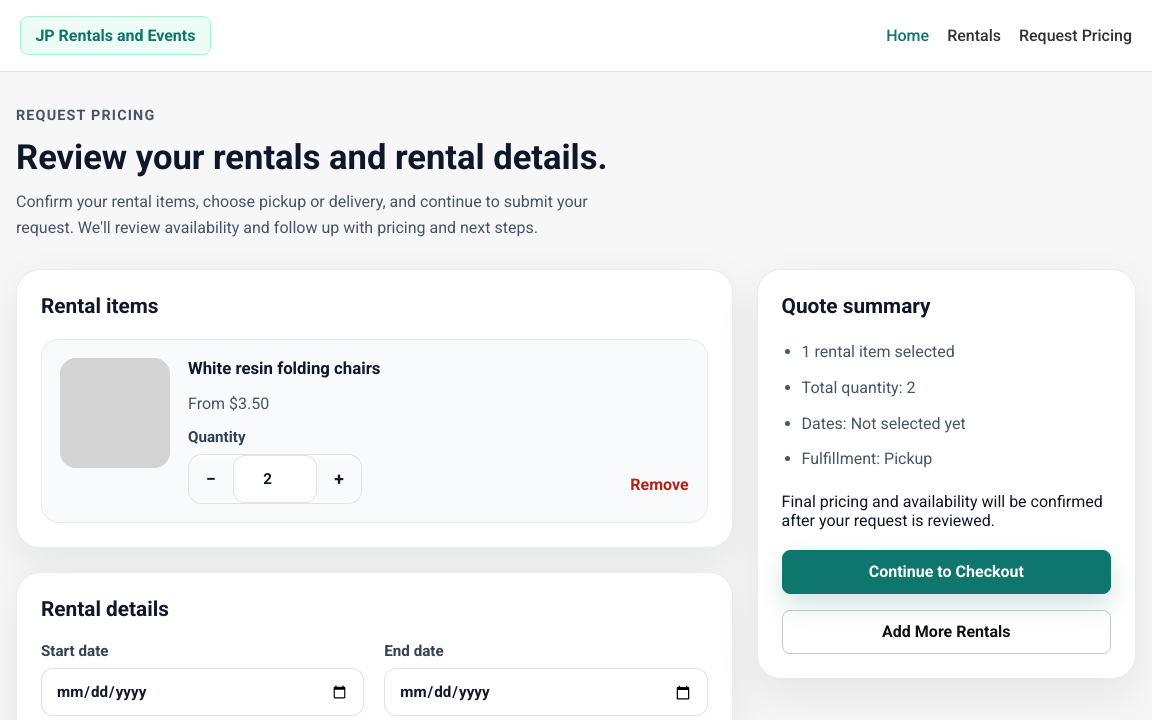
Test: QuotePage › shows validation errors when continuing with missing dates
Click the button with aria-label "continue to checkout from quote summary".
click(946, 572)  # box [782,550,1111,594]
(page scrolled)
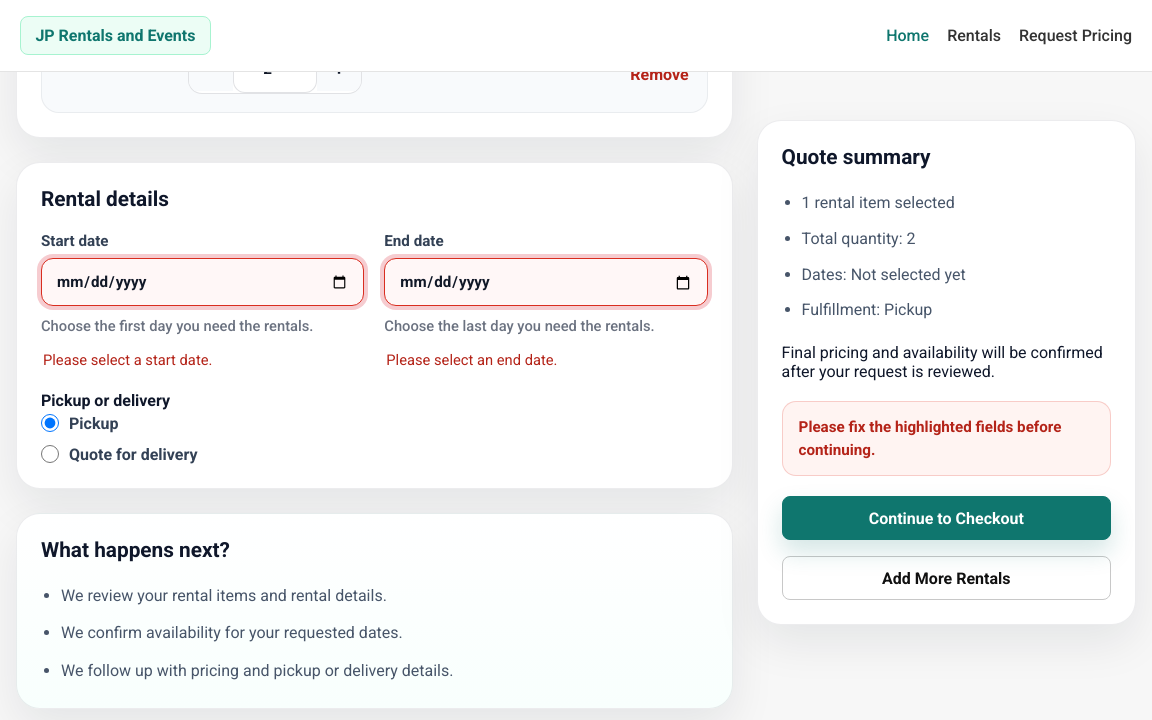
Expected: the text "Please select a start date." is shown, [43,350,212,368]
Expected: the text "Please select an end date." is shown, [386,350,558,368]
